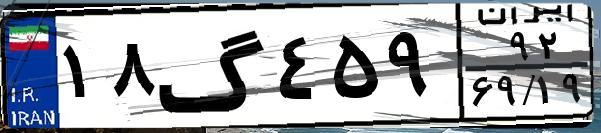1: (57, 26, 110, 100), (535, 70, 560, 125)
2: (537, 27, 568, 80)
4: (270, 28, 330, 110)
5: (330, 28, 385, 110)
6: (470, 70, 495, 125)
8: (110, 28, 156, 98)
9: (385, 28, 445, 110), (560, 70, 590, 125), (508, 27, 537, 80), (495, 70, 520, 125)
گ: (156, 12, 270, 120)
